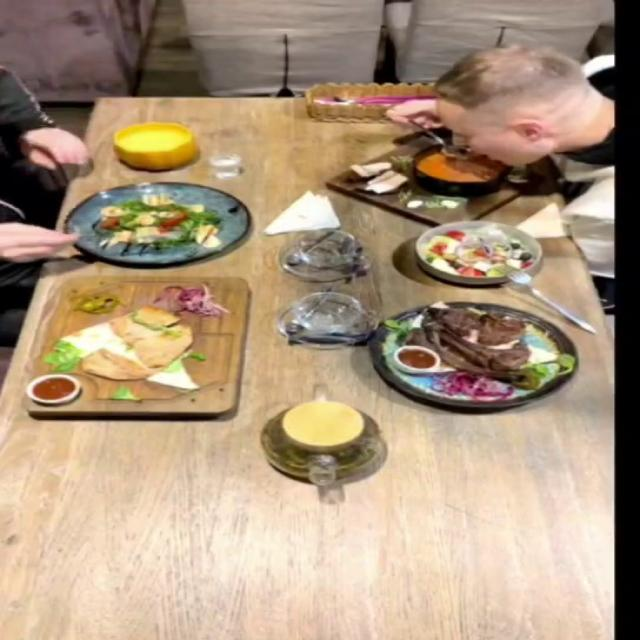alcohol: (197, 139, 251, 169)
meat: (367, 301, 579, 408)
salat: (61, 182, 248, 265), (414, 220, 544, 285)
soup: (325, 136, 554, 226), (111, 122, 198, 170)
tea: (280, 400, 364, 447)
